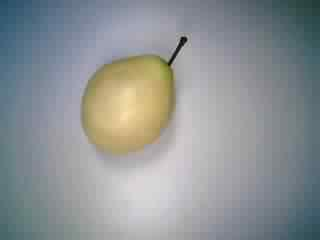pear: (65, 27, 209, 159)
